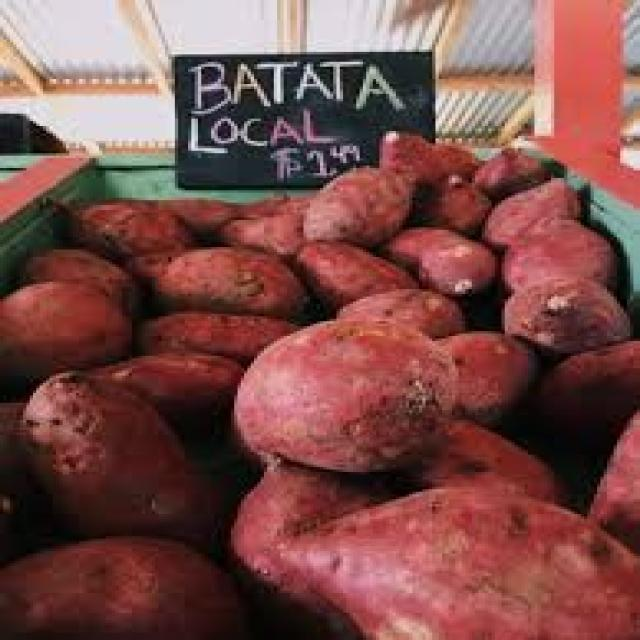biodegradable: (284, 485, 637, 638), (225, 314, 456, 467), (221, 457, 409, 638), (23, 366, 211, 539), (0, 531, 238, 638), (215, 210, 413, 314), (505, 336, 637, 487), (390, 413, 555, 504), (389, 418, 561, 497), (116, 245, 300, 314), (0, 277, 129, 371), (429, 324, 538, 425), (109, 195, 287, 250), (498, 275, 630, 349), (43, 193, 191, 259), (93, 349, 238, 415), (577, 401, 637, 559), (301, 161, 413, 245), (129, 306, 300, 361), (498, 213, 614, 294), (0, 396, 66, 537), (284, 237, 406, 309), (20, 245, 139, 311), (383, 228, 492, 297), (333, 284, 459, 341), (478, 176, 574, 247), (409, 173, 488, 230), (370, 126, 446, 183), (468, 141, 551, 190), (429, 136, 482, 170), (264, 191, 313, 218)
